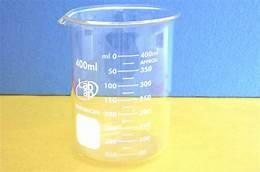Beaker: (53, 4, 187, 164)
